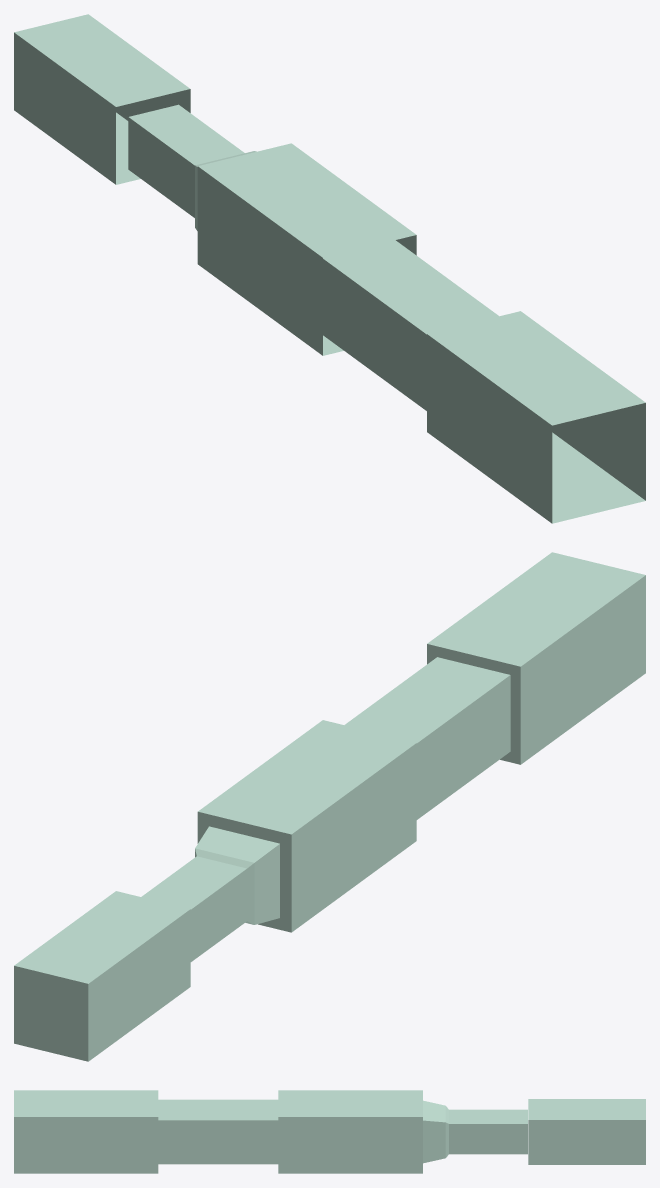
The picture shows the model from 3 angles, top to bottom: view 1: azimuth 30°, elevation 25°; view 2: azimuth 150°, elevation 25°; view 3: azimuth 270°, elevation 25°; orthographic projection. The views are drawn at different scales.
Parts seen in each view (by area): view 1: Object36; view 2: Object36; view 3: Object36.
Boxes of the visible parts, box(x1,y1,x2,y2) form: Object36: box(14, 14, 645, 523); Object36: box(14, 552, 645, 1061); Object36: box(14, 1090, 645, 1173).
Size of the model in its own units: 10286 by 10286 by 104066.
